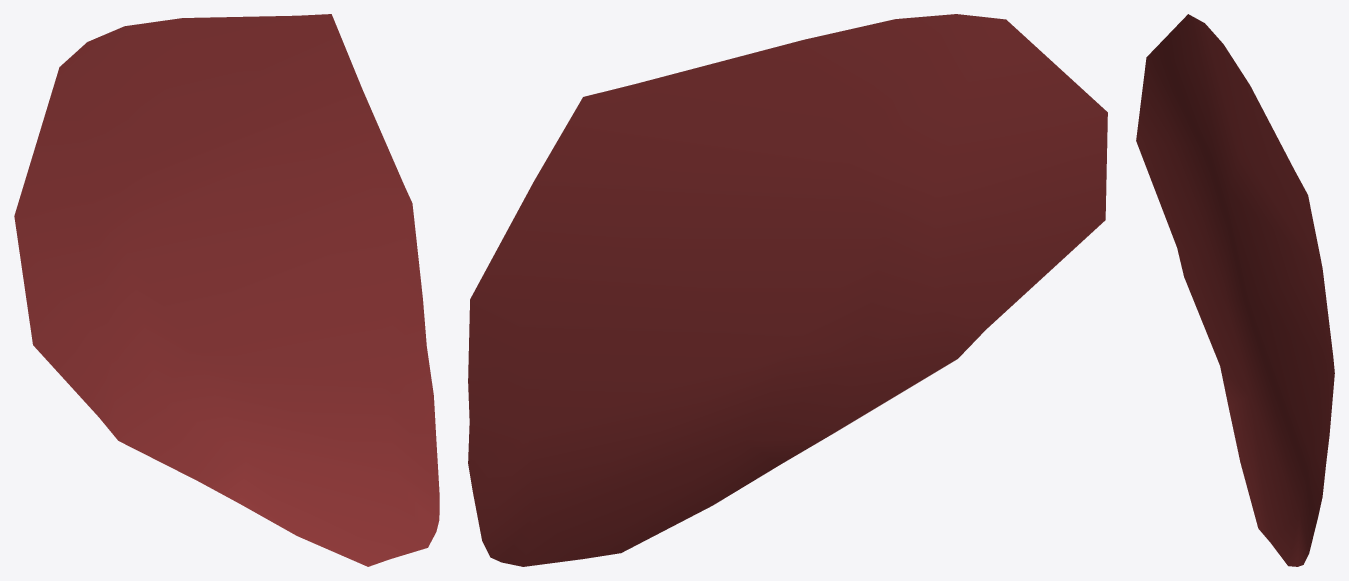
Rendered from longissimus-thoracis-muscle-e4l.glb.
3 renders of one model, left to right at view 1: azimuth 30°, elevation 25°; view 2: azimuth 150°, elevation 25°; view 3: azimuth 270°, elevation 25°, orthographic. The views are drawn at different scales.
Visible parts, largest first — view 1: Longissimus thoracis muscle.e4l; view 2: Longissimus thoracis muscle.e4l; view 3: Longissimus thoracis muscle.e4l.
Part boxes in pixels (left/top/right/bottom): Longissimus thoracis muscle.e4l: left=14, top=14, right=439, bottom=566; Longissimus thoracis muscle.e4l: left=468, top=14, right=1107, bottom=566; Longissimus thoracis muscle.e4l: left=1136, top=14, right=1334, bottom=566.
Size of the model in its own units: 0.007 by 0.00783 by 0.00339.
